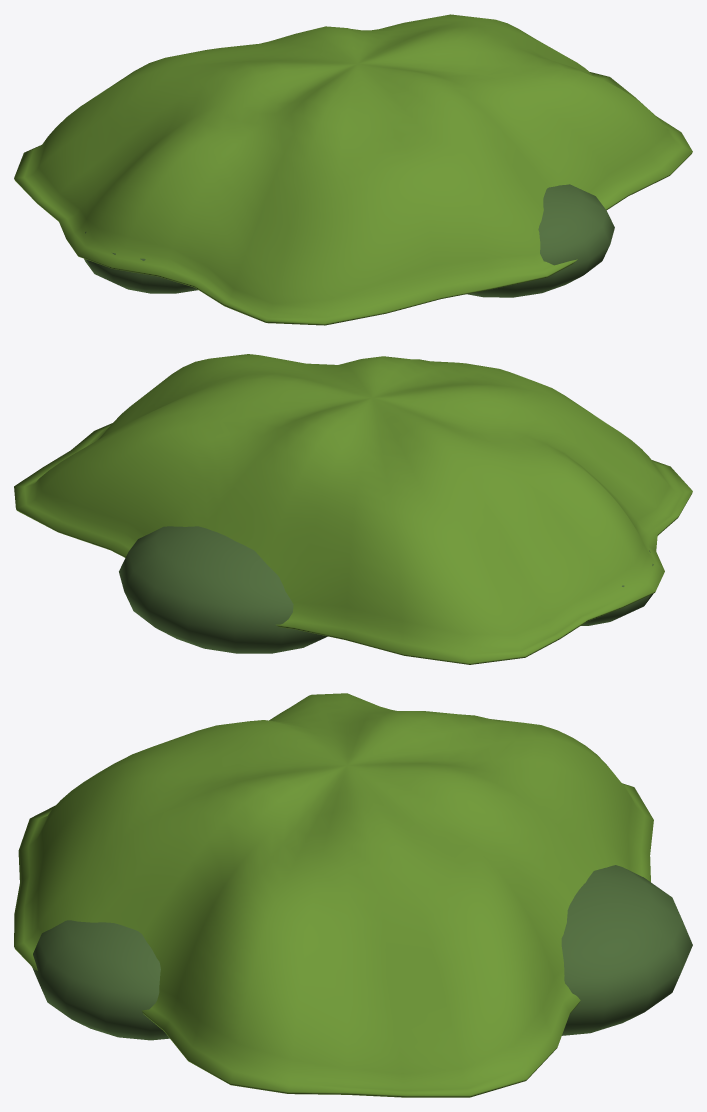
Rendered from sh_moss_clump_s.fbx.
The picture shows the model from 3 angles, top to bottom: view 1: azimuth 30°, elevation 25°; view 2: azimuth 150°, elevation 25°; view 3: azimuth 270°, elevation 25°; orthographic projection. The views are drawn at different scales.
Visible parts, largest first — view 1: SH_Moss_Clump_S; view 2: SH_Moss_Clump_S; view 3: SH_Moss_Clump_S.
Part boxes in pixels (<box>): SH_Moss_Clump_S: <box>14,14,692,325</box>; SH_Moss_Clump_S: <box>14,354,692,664</box>; SH_Moss_Clump_S: <box>14,693,692,1097</box>.
Size of the model in its own units: 14.96 by 4.48 by 12.44.
